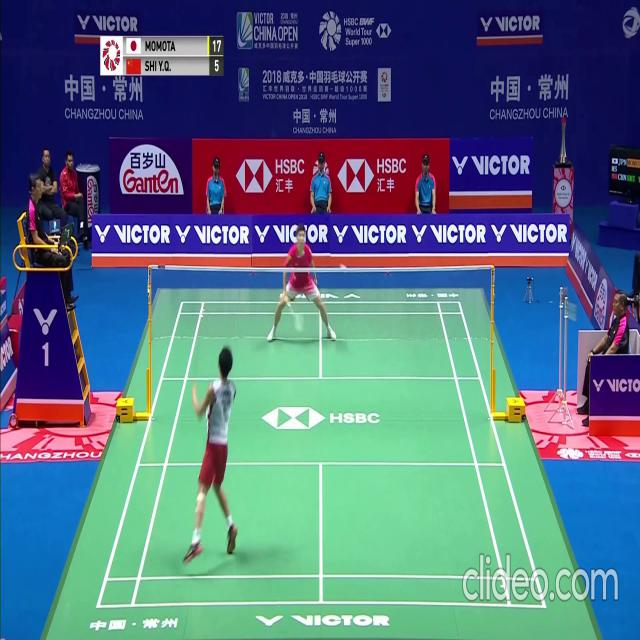Shuttlecock: (341, 265, 346, 272)
